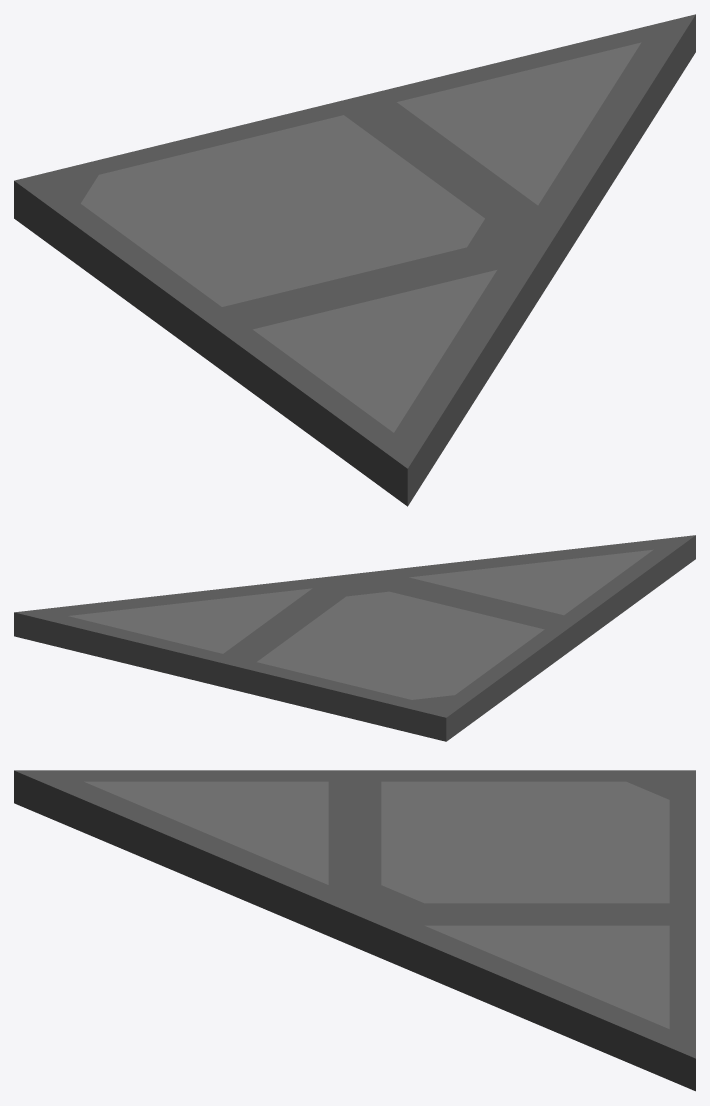
The model's file is tile_platform_012.fbx.
3 views of the same model, one above another, from view 1: azimuth 30°, elevation 25°; view 2: azimuth 150°, elevation 25°; view 3: azimuth 270°, elevation 25° (orthographic). The views are drawn at different scales.
Parts seen in each view (by area): view 1: tile_platform_012; view 2: tile_platform_012; view 3: tile_platform_012.
Part boxes in pixels (<box>): tile_platform_012: <box>14,14,695,506</box>; tile_platform_012: <box>14,535,695,741</box>; tile_platform_012: <box>14,770,695,1091</box>.
Size of the model in its own units: 400 by 400 by 21.22.
